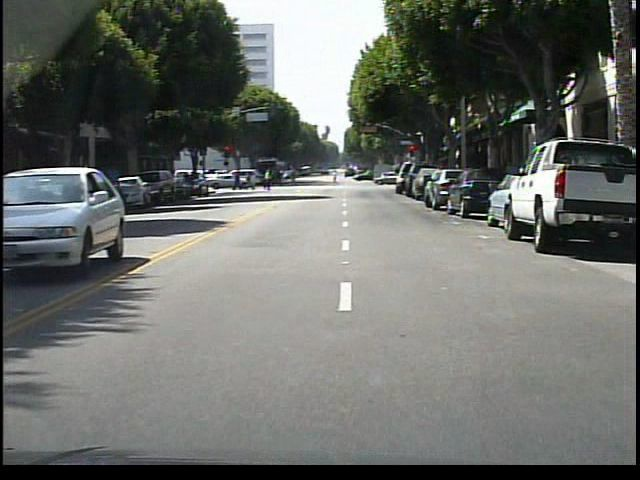person: (259, 165, 279, 195)
